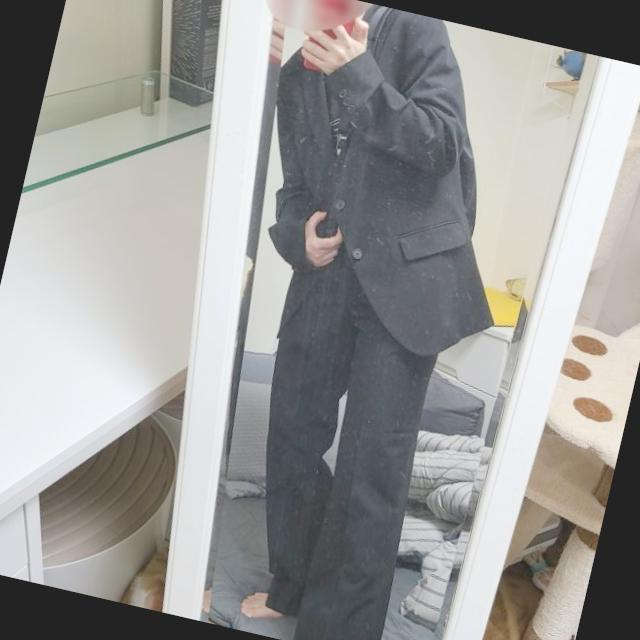blazer: (221, 0, 560, 370)
slacks: (209, 199, 475, 640)
